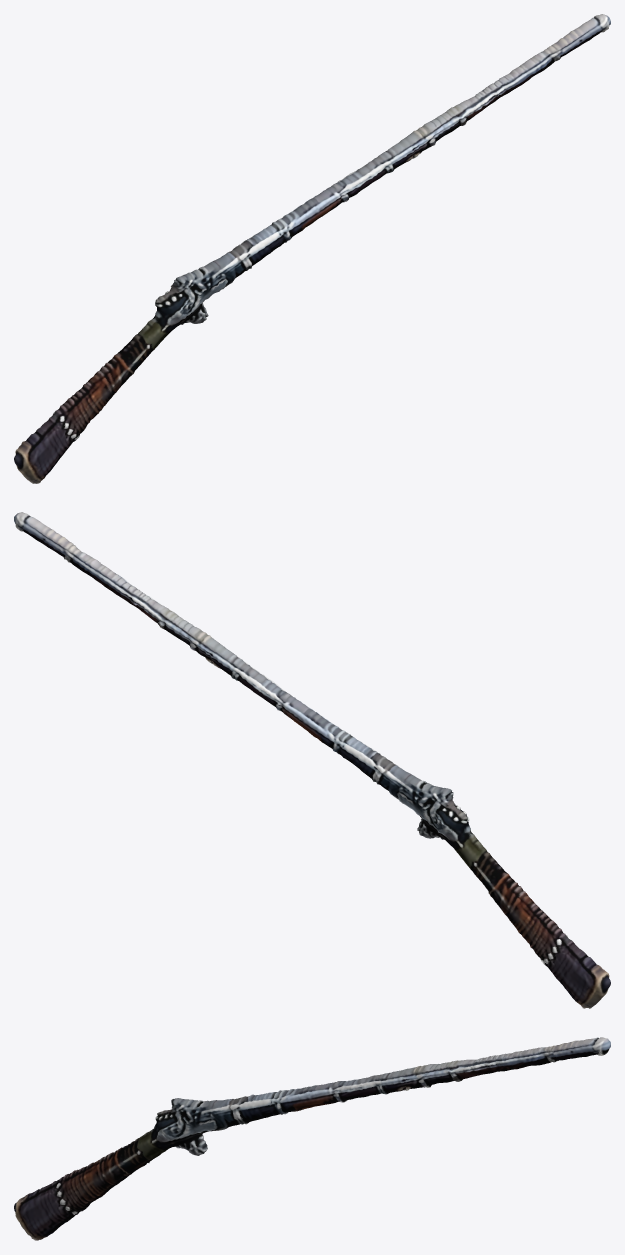
Rendered from kfl-2213.glb.
3 views of the same model, one above another, from view 1: azimuth 30°, elevation 25°; view 2: azimuth 150°, elevation 25°; view 3: azimuth 330°, elevation 25° (orthographic). The views are drawn at different scales.
Visible parts, largest first — view 1: kfl-2213; view 2: kfl-2213; view 3: kfl-2213.
Part boxes in pixels (box(x1,y1,x2,y2)): kfl-2213: box(14, 14, 610, 483); kfl-2213: box(14, 512, 610, 1008); kfl-2213: box(14, 1037, 610, 1240).
Bounding box in the file's own units: 0.9873 × 0.5421 × 0.0588.
Materials: 1 (1 with a texture image).
